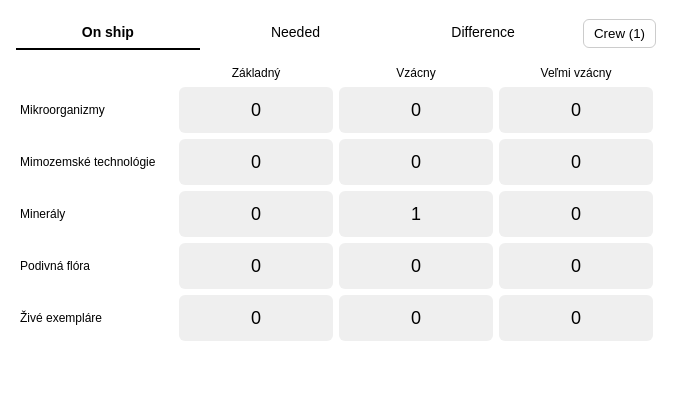
Test: ShipPage › separates a project's code from its name in the shortfall list
Click the tab with test id "tab-diff": (483, 33) [391, 16, 575, 50]
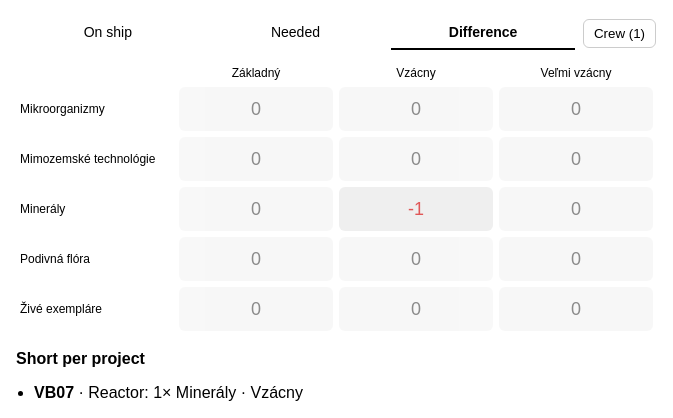
Check: the list with test id "shortfall-list" shows "VB07 · Reactor:", box [34, 384, 303, 401]
